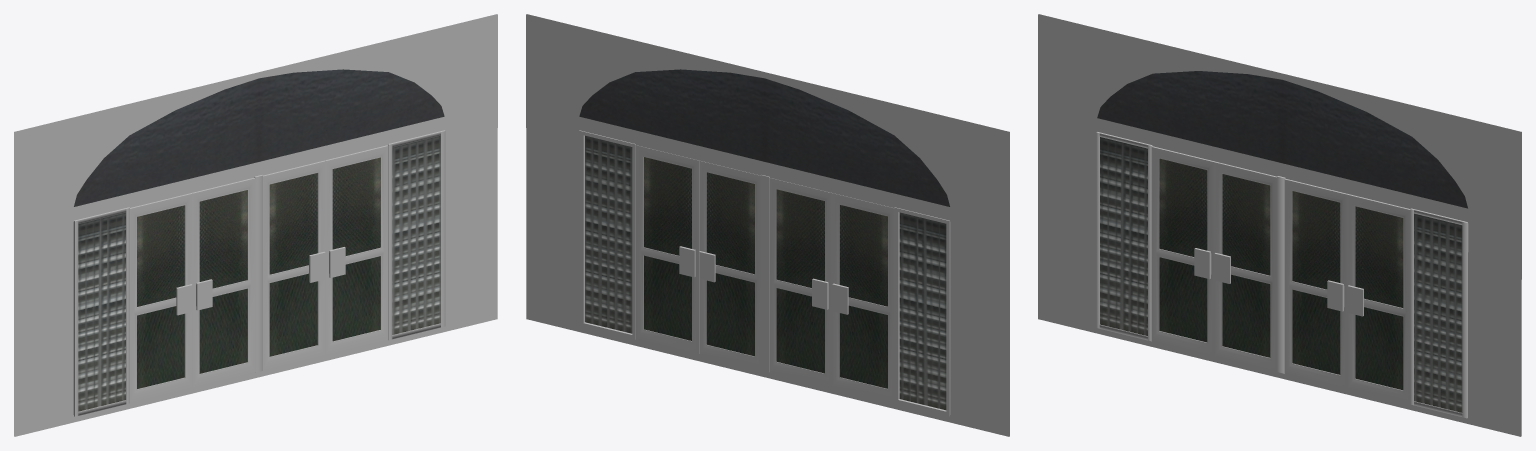
Rendered from shop_Ent02c.fbx.
3 views of the same model, side by side, from view 1: azimuth 30°, elevation 25°; view 2: azimuth 150°, elevation 25°; view 3: azimuth 330°, elevation 25° (orthographic).
Parts seen in each view (by area): view 1: shop_Ent02c; view 2: shop_Ent02c; view 3: shop_Ent02c.
Boxes of the visible parts, x1,y1,x2,y2 form: shop_Ent02c: (14,14,497,436); shop_Ent02c: (526,14,1009,436); shop_Ent02c: (1038,14,1521,436).
Size of the model in its own units: 5.34 by 3.22 by 0.1141.
